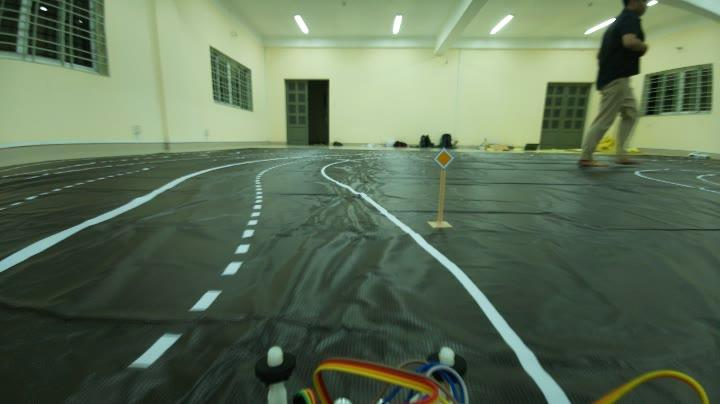priority: (430, 138, 458, 178)
